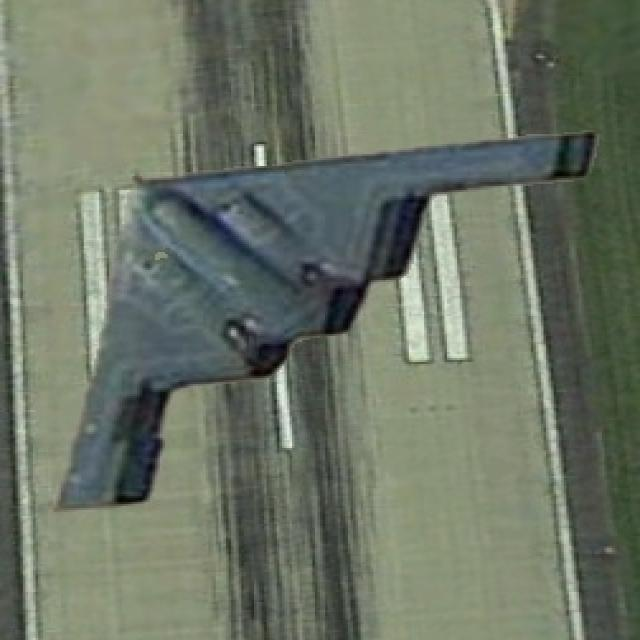B-2_TopDown: (51, 124, 599, 510)
